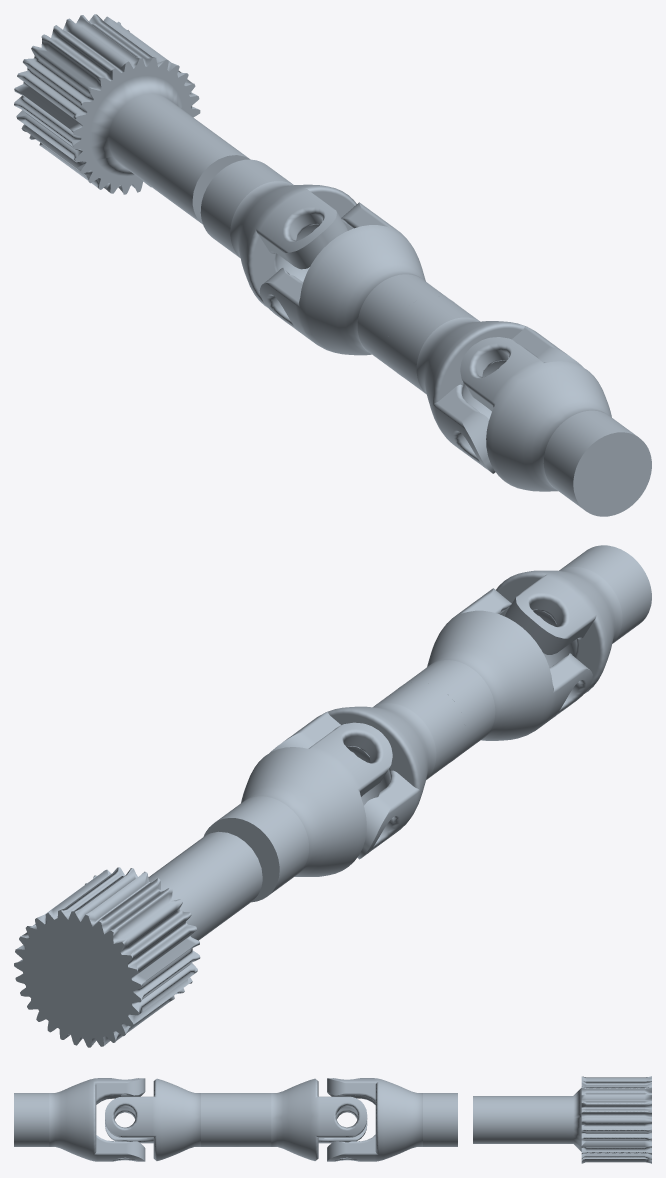
File: hss_parts_near_generator.obj
3 views of the same model, one above another, from view 1: azimuth 30°, elevation 25°; view 2: azimuth 150°, elevation 25°; view 3: azimuth 270°, elevation 25° (orthographic). The views are drawn at different scales.
Parts seen in each view (by area): view 1: 1, 5, 2, 4, 3; view 2: 1, 4, 3, 5, 2; view 3: 1, 5, 4, 2, 3.
Part boxes in pixels (x1,y1,x2,y2): 1: (14, 14, 250, 224); 5: (460, 337, 651, 516); 2: (259, 202, 450, 373); 4: (200, 159, 356, 307); 3: (387, 296, 583, 473); 1: (14, 831, 262, 1047); 4: (203, 722, 392, 902); 3: (402, 588, 592, 759); 5: (496, 545, 651, 693); 2: (270, 681, 465, 859); 1: (473, 1076, 651, 1163); 5: (14, 1078, 145, 1161); 4: (327, 1078, 457, 1161); 2: (236, 1078, 367, 1160); 3: (105, 1078, 235, 1160).
Size of the model in its own units: 162 by 162 by 1178.
